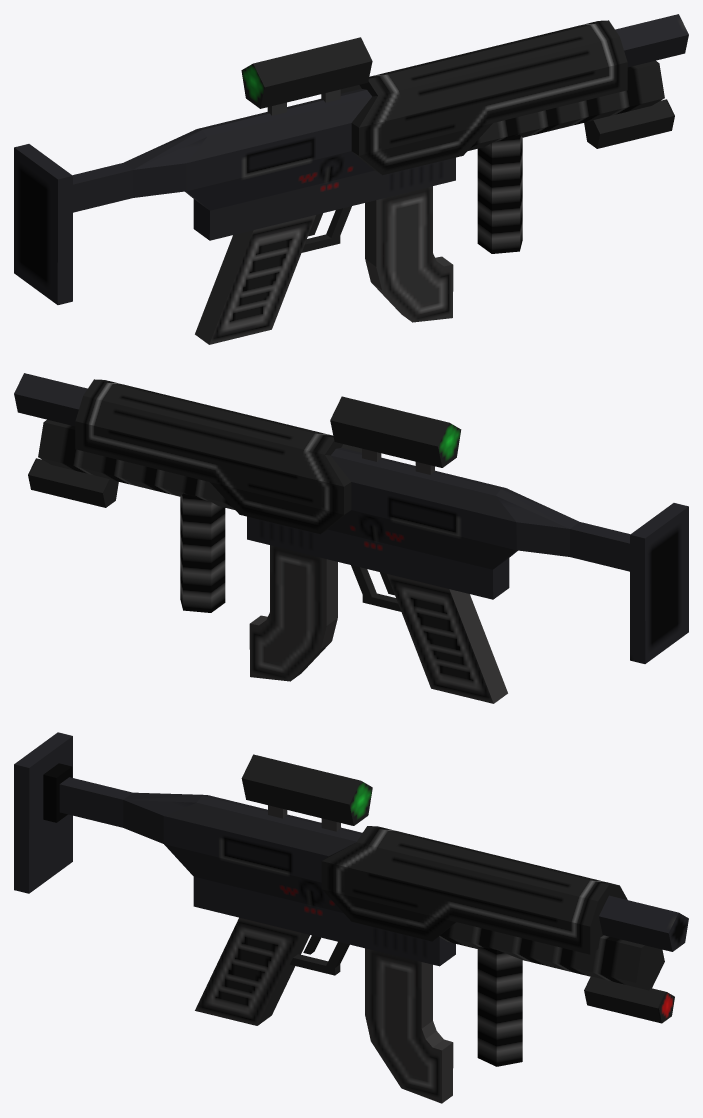
File: Rifle.fbx
3 renders of one model, top to bottom at view 1: azimuth 30°, elevation 25°; view 2: azimuth 150°, elevation 25°; view 3: azimuth 330°, elevation 25°, orthographic.
Parts seen in each view (by area): view 1: Plane.001; view 2: Plane.001; view 3: Plane.001.
Part boxes in pixels (x1,y1,x2,y2): Plane.001: [14, 14, 688, 344]; Plane.001: [14, 373, 688, 703]; Plane.001: [14, 732, 688, 1103].
Bounding box in the file's own units: 94.8 × 41.95 × 11.19.
